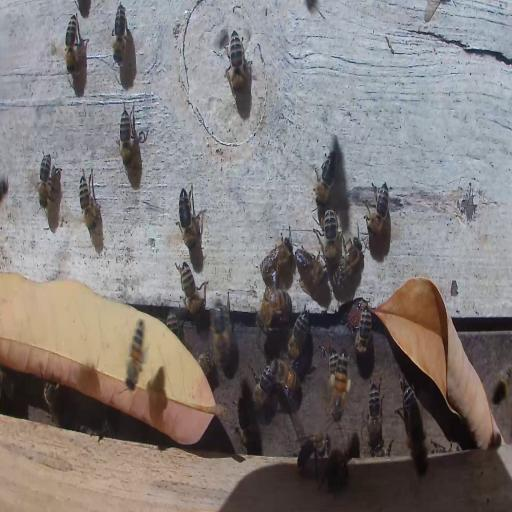nonpollenbee: (210, 296, 234, 370), (313, 145, 340, 208), (254, 288, 292, 330), (177, 184, 201, 250), (396, 376, 422, 434), (178, 261, 204, 318), (78, 166, 99, 236), (333, 238, 361, 288), (272, 357, 300, 405), (366, 180, 390, 234), (324, 442, 352, 488), (296, 434, 331, 470), (319, 207, 340, 263), (118, 104, 134, 177), (287, 308, 308, 363), (228, 30, 246, 94), (252, 363, 278, 407), (353, 305, 375, 357), (296, 247, 325, 286), (366, 378, 382, 446), (112, 3, 127, 66), (64, 13, 78, 75), (38, 150, 52, 211), (262, 248, 284, 275), (44, 380, 60, 416), (370, 439, 392, 458), (167, 312, 179, 333)
pollenbee: (122, 315, 148, 392), (330, 348, 352, 424)
